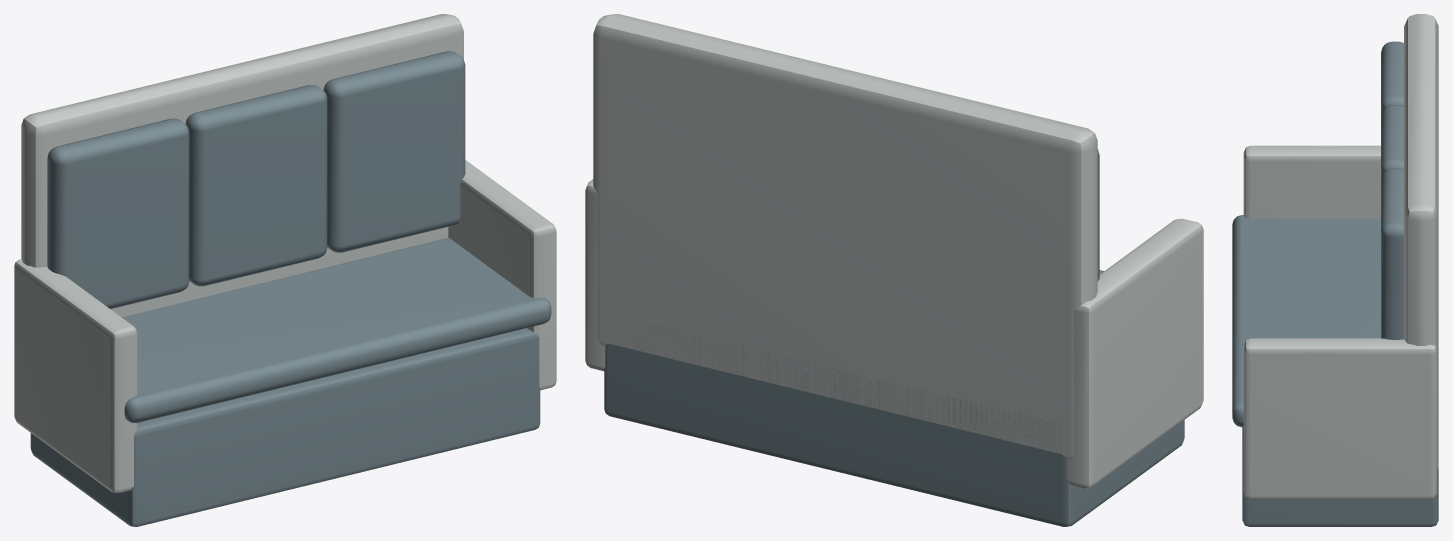
Rendered from restaurant-booth.glb.
3 views of the same model, side by side, from view 1: azimuth 30°, elevation 25°; view 2: azimuth 150°, elevation 25°; view 3: azimuth 270°, elevation 25° (orthographic). The views are drawn at different scales.
Parts seen in each view (by area): view 1: booth_plinth, bench_cushion, back_shell, back_cushion.001, back_cushion.002, back_cushion, booth_end, booth_end.001; view 2: back_shell, booth_plinth, booth_end, booth_end.001; view 3: booth_end.001, bench_cushion, back_shell, booth_end, booth_plinth, back_cushion.002, back_cushion, back_cushion.001.
Part boxes in pixels (x1=…): booth_plinth: x1=30, y1=328, x2=540, y2=526; bench_cushion: x1=122, y1=238, x2=551, y2=423; back_shell: x1=21, y1=14, x2=463, y2=317; back_cushion.001: x1=185, y1=85, x2=327, y2=286; back_cushion.002: x1=323, y1=51, x2=465, y2=252; back_cushion: x1=47, y1=118, x2=189, y2=308; booth_end: x1=14, y1=259, x2=137, y2=492; booth_end.001: x1=448, y1=160, x2=556, y2=390; back_shell: x1=593, y1=14, x2=1097, y2=459; booth_plinth: x1=604, y1=314, x2=1184, y2=526; booth_end: x1=1067, y1=218, x2=1203, y2=488; booth_end.001: x1=585, y1=179, x2=605, y2=371; booth_end.001: x1=1243, y1=338, x2=1437, y2=499; bench_cushion: x1=1232, y1=215, x2=1380, y2=427; back_shell: x1=1404, y1=14, x2=1438, y2=469; booth_end: x1=1243, y1=145, x2=1380, y2=218; booth_plinth: x1=1242, y1=427, x2=1438, y2=526; back_cushion.002: x1=1381, y1=168, x2=1403, y2=339; back_cushion: x1=1381, y1=41, x2=1403, y2=115; back_cushion.001: x1=1381, y1=105, x2=1403, y2=178.
Size of the model in its own units: 1.68 by 1.25 by 0.715.
